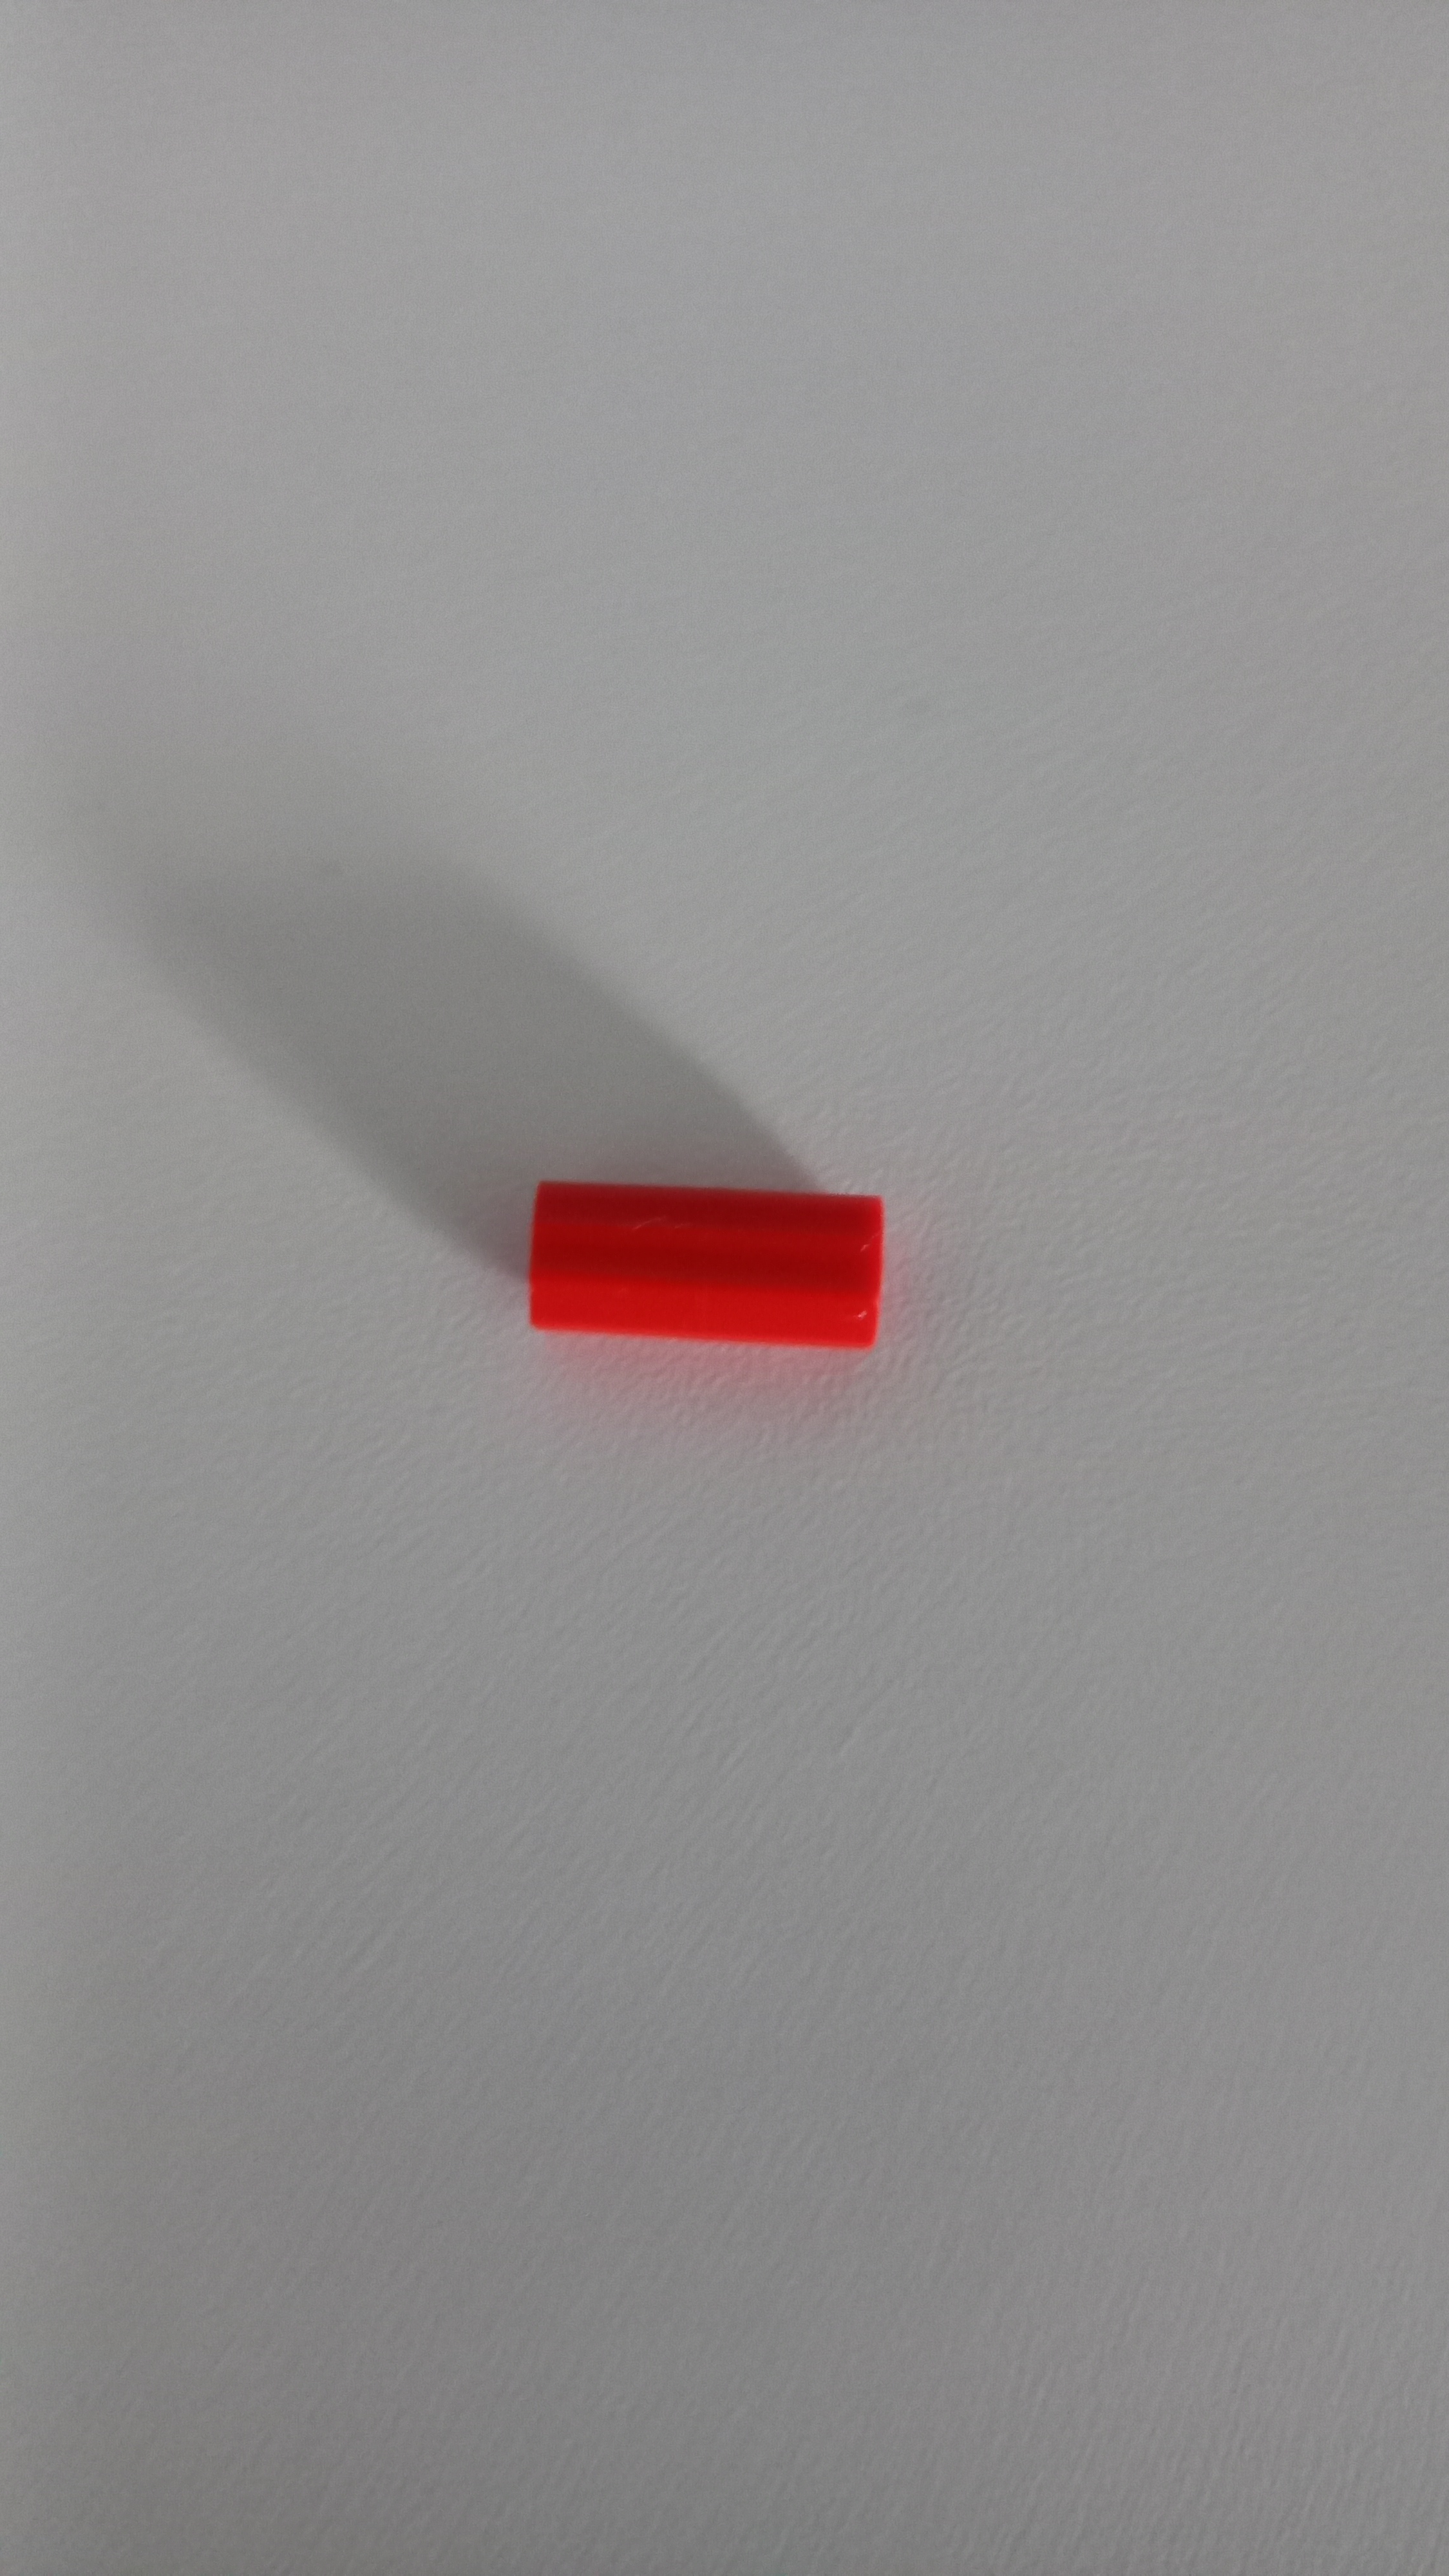Rot: (513, 1148, 920, 1384)
